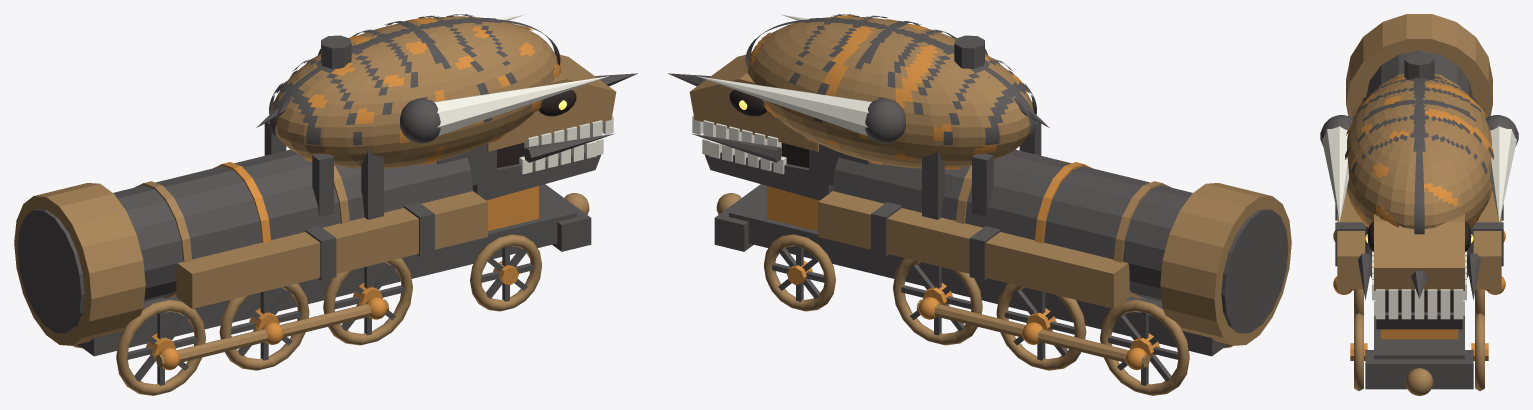
The model's file is Locomotive_Beast.fbx.
The picture shows the model from 3 angles, left to right: view 1: azimuth 30°, elevation 25°; view 2: azimuth 150°, elevation 25°; view 3: azimuth 270°, elevation 25°; orthographic projection. The views are drawn at different scales.
Parts seen in each view (by area): view 1: Locomotive_Beast; view 2: Locomotive_Beast; view 3: Locomotive_Beast.
Part boxes in pixels (x1,y1,x2,y2): Locomotive_Beast: (14, 14, 637, 395); Locomotive_Beast: (668, 14, 1291, 395); Locomotive_Beast: (1320, 14, 1518, 395).
Bounding box in the file's own units: 5.98 × 2.7 × 1.83.
